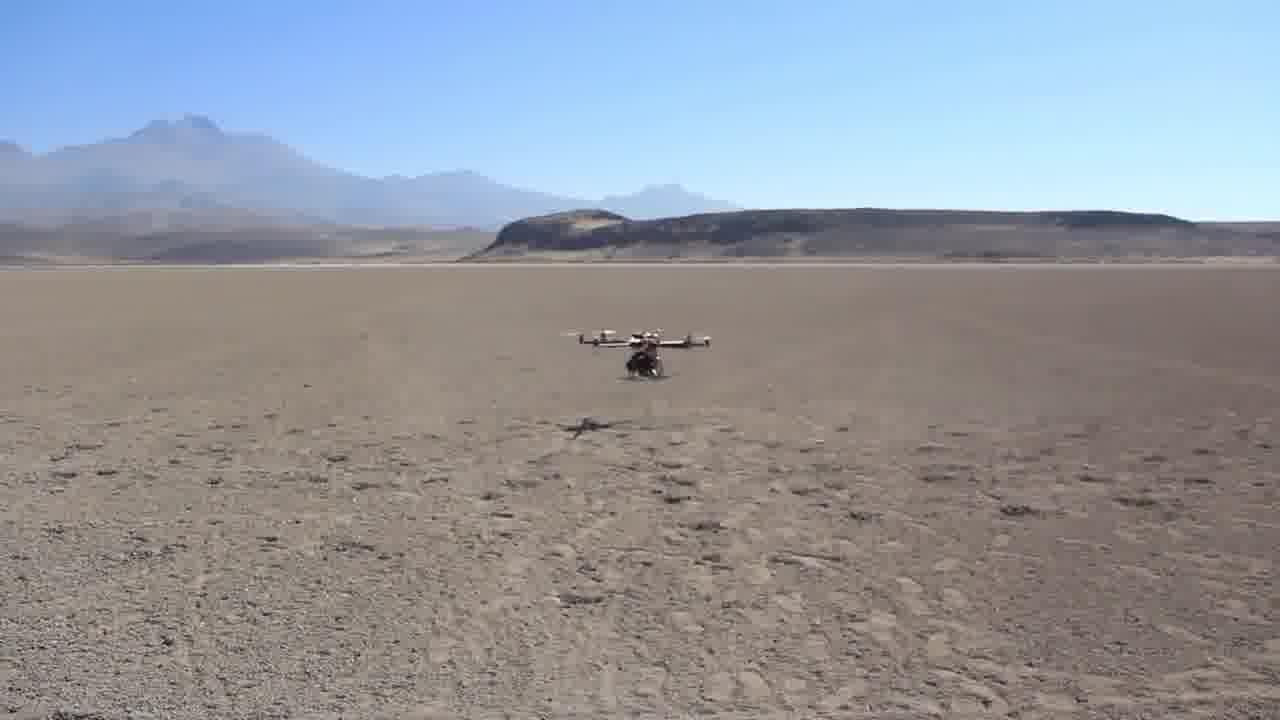drone: (567, 308, 721, 389)
